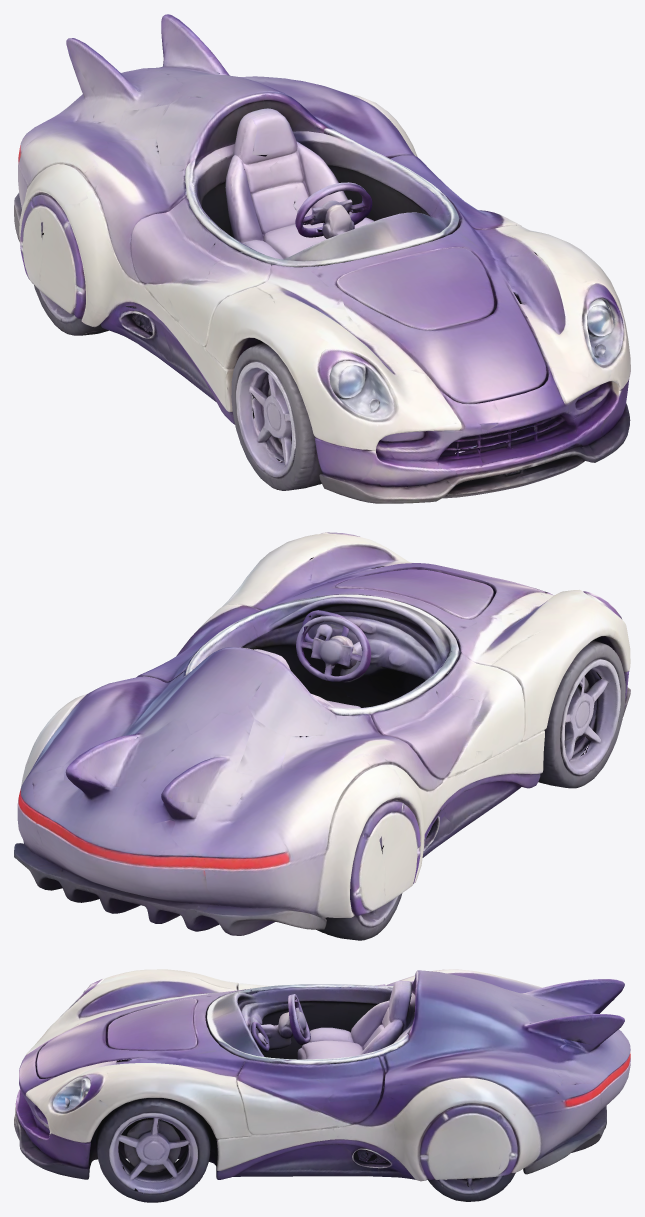
The model's file is nova.glb.
The picture shows the model from 3 angles, top to bottom: view 1: azimuth 30°, elevation 25°; view 2: azimuth 150°, elevation 25°; view 3: azimuth 270°, elevation 25°; orthographic projection. The views are drawn at different scales.
Visible parts, largest first — view 1: model; view 2: model; view 3: model.
Boxes of the visible parts, x1,y1,x2,y2 form: model: [14, 14, 630, 503]; model: [14, 532, 630, 940]; model: [14, 969, 630, 1202].
Bounding box in the file's own units: 0.9277 × 0.5801 × 1.9.
1 material, 1 textured.
